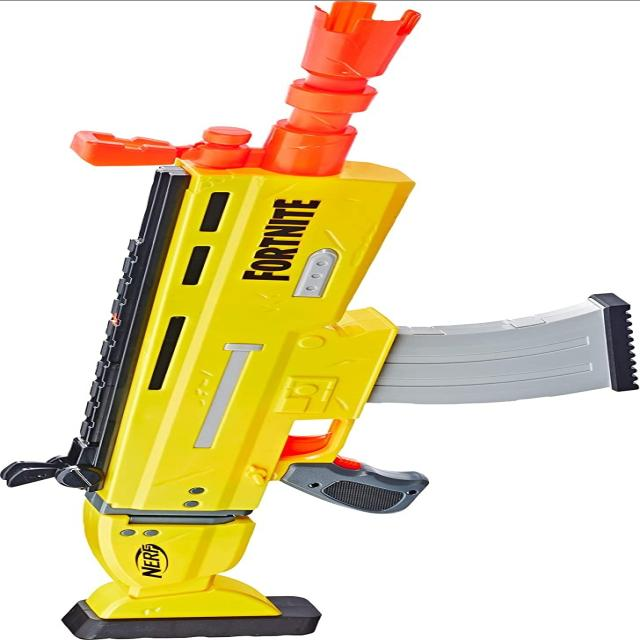Nerf gun: (5, 0, 639, 637)
